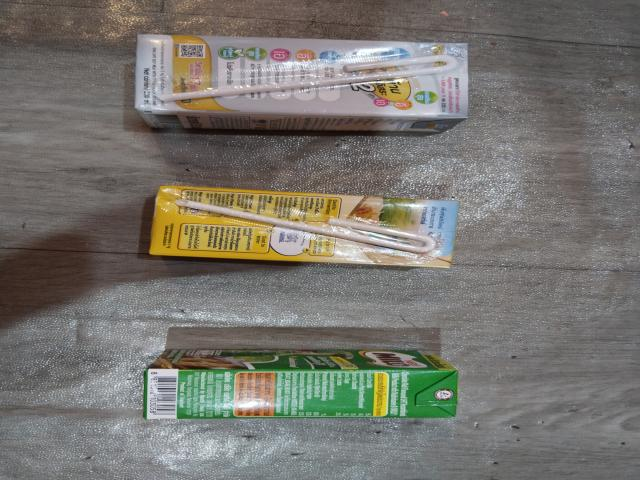drink_box: (122, 28, 485, 136), (141, 179, 480, 270), (130, 344, 480, 423)
